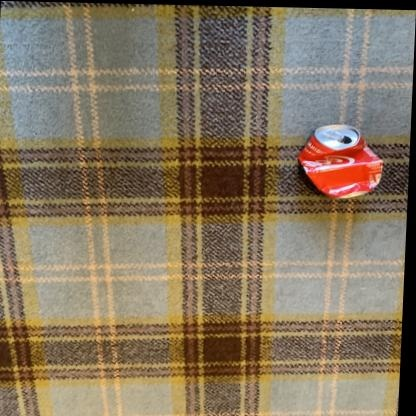trash: (298, 124, 382, 197)
